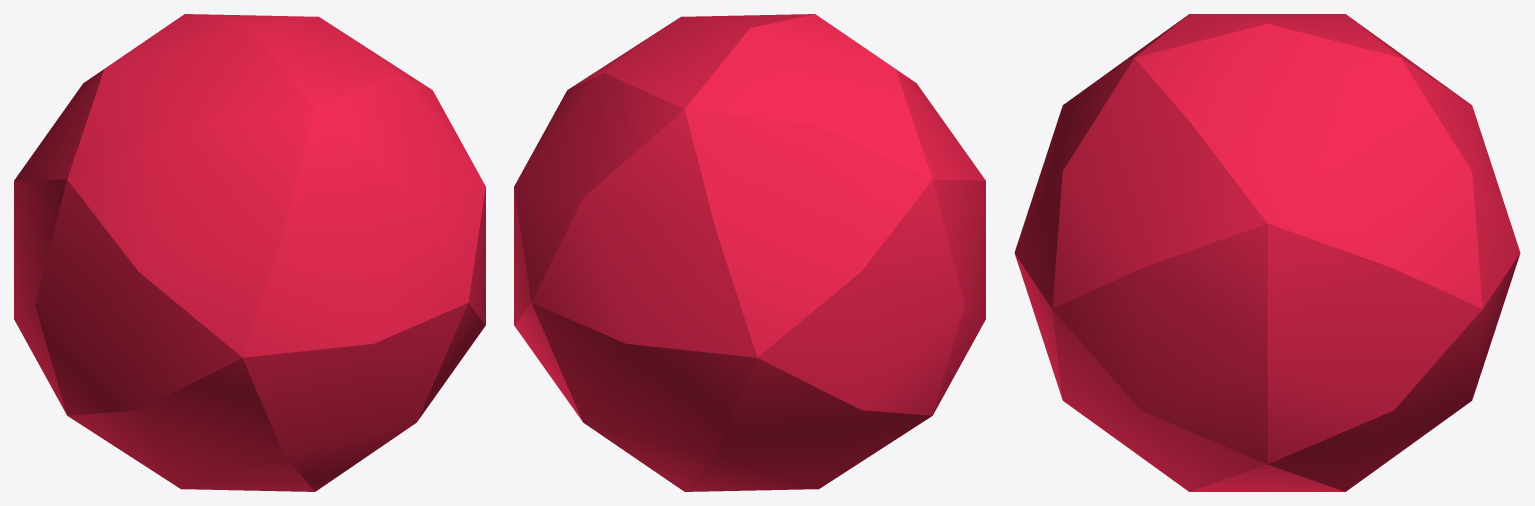
Rendered from gems_ruby_original.obj.
3 renders of one model, left to right at view 1: azimuth 30°, elevation 25°; view 2: azimuth 150°, elevation 25°; view 3: azimuth 270°, elevation 25°, orthographic.
Visible parts, largest first — view 1: mergedBlocks; view 2: mergedBlocks; view 3: mergedBlocks.
Boxes of the visible parts, bbox=[...] form: mergedBlocks: bbox=[14, 14, 485, 491]; mergedBlocks: bbox=[514, 14, 985, 491]; mergedBlocks: bbox=[1014, 14, 1520, 491].
Bounding box in the file's own units: 1 × 1 × 1.
